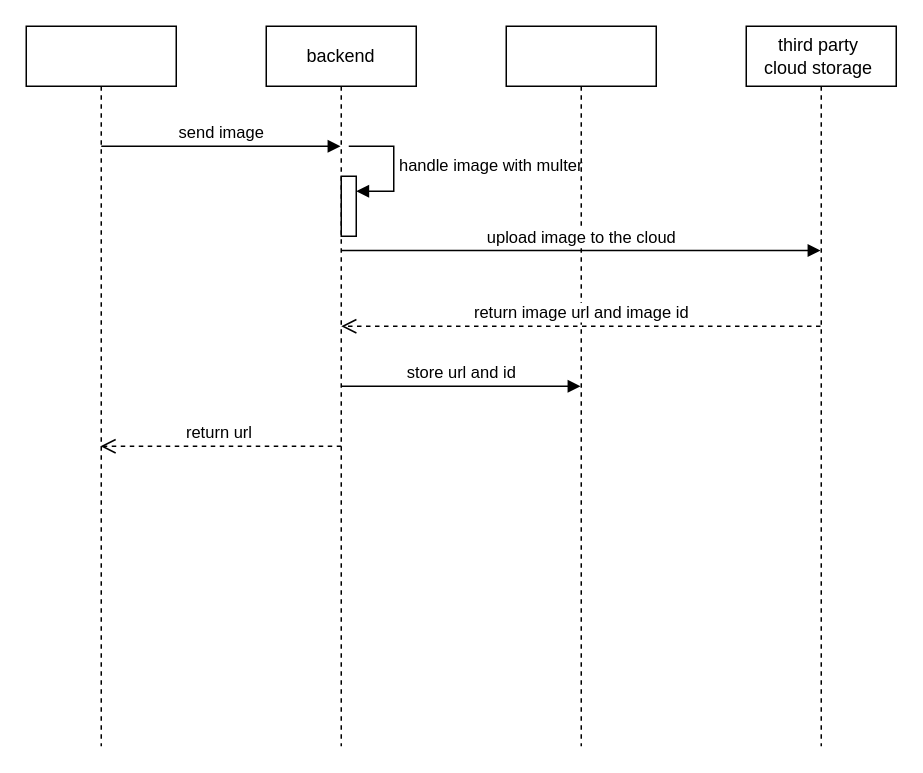
Some shapes in this 923 by 773 pixel diagram are drawn without their labels. The shapes that lost their labels are listed below. From the top down, each one's box as (x1, y1, x2, y2) in pixels, then its label:
(25, 25, 176, 746): application
(505, 25, 656, 746): database
